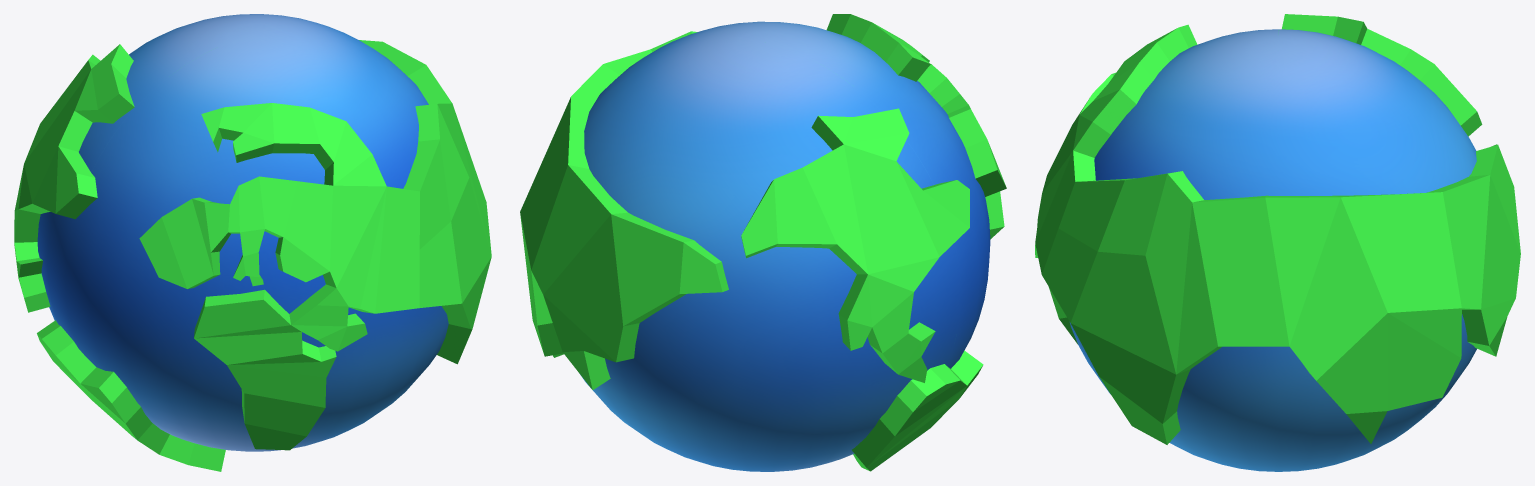
Rendered from Earth.fbx.
3 views of the same model, side by side, from view 1: azimuth 30°, elevation 25°; view 2: azimuth 150°, elevation 25°; view 3: azimuth 270°, elevation 25° (orthographic). The views are drawn at different scales.
Visible parts, largest first — view 1: Basketball_Ball_Skin_Earth; view 2: Basketball_Ball_Skin_Earth; view 3: Basketball_Ball_Skin_Earth.
Part boxes in pixels (x1,y1,x2,y2): Basketball_Ball_Skin_Earth: [14, 14, 491, 471]; Basketball_Ball_Skin_Earth: [520, 14, 1006, 471]; Basketball_Ball_Skin_Earth: [1035, 14, 1520, 471].
Size of the model in its own units: 0.2581 by 0.2441 by 0.2633.
1 material, 1 textured.
